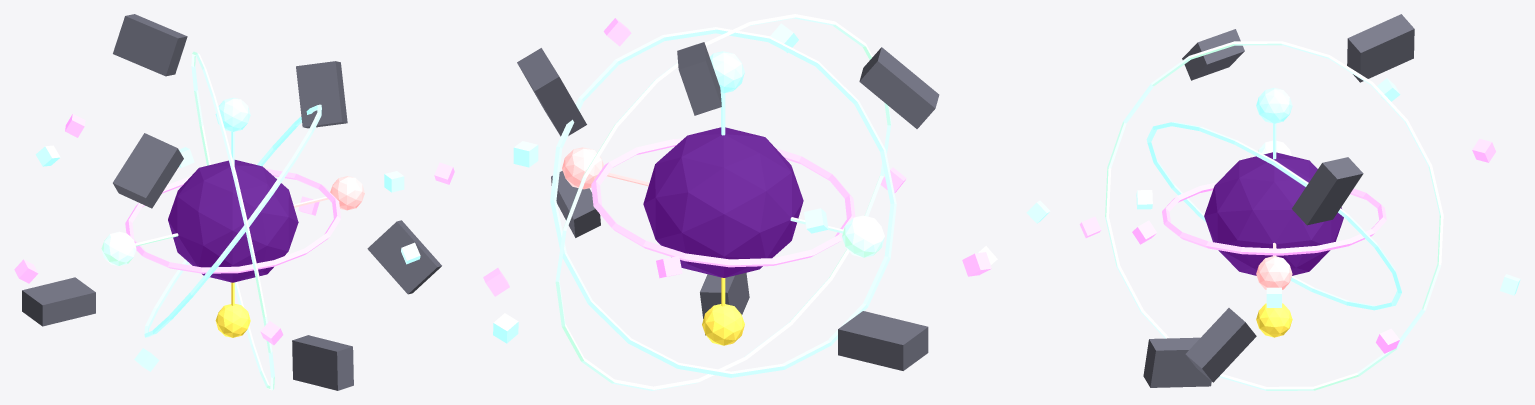
File: fragmented_core.glb
3 views of the same model, side by side, from view 1: azimuth 30°, elevation 25°; view 2: azimuth 150°, elevation 25°; view 3: azimuth 270°, elevation 25° (orthographic). The views are drawn at different scales.
Parts seen in each view (by area): view 1: fragmented_core_black_polyhedron, glitch_architecture_shard_2, glitch_architecture_shard_5, glitch_architecture_shard_6, glitch_architecture_shard_3, glitch_architecture_shard_1, glitch_architecture_shard_4, broken_logic_ring_gamma, broken_logic_ring_beta, broken_logic_ring_alpha, logic_node_one_rhythm_target, logic_node_four_rhythm_target (+3 smaller); view 2: fragmented_core_black_polyhedron, broken_logic_ring_beta, broken_logic_ring_gamma, glitch_architecture_shard_1, broken_logic_ring_alpha, glitch_architecture_shard_2, glitch_architecture_shard_3, glitch_architecture_shard_5, glitch_architecture_shard_4, glitch_architecture_shard_6, logic_node_one_rhythm_target, logic_node_four_rhythm_target (+9 smaller); view 3: fragmented_core_black_polyhedron, broken_logic_ring_gamma, glitch_architecture_shard_5, glitch_architecture_shard_3, broken_logic_ring_beta, glitch_architecture_shard_4, glitch_architecture_shard_6, broken_logic_ring_alpha, glitch_architecture_shard_2, logic_node_two_rhythm_target, logic_node_three_rhythm_target, logic_node_four_rhythm_target.
Part boxes in pixels (<box>): fragmented_core_black_polyhedron: <box>168,160,298,282</box>; glitch_architecture_shard_2: <box>113,133,183,208</box>; glitch_architecture_shard_5: <box>113,14,187,76</box>; glitch_architecture_shard_6: <box>292,335,353,390</box>; glitch_architecture_shard_3: <box>296,61,347,128</box>; glitch_architecture_shard_1: <box>22,277,95,326</box>; glitch_architecture_shard_4: <box>367,220,441,294</box>; broken_logic_ring_gamma: <box>191,51,274,390</box>; broken_logic_ring_beta: <box>144,104,321,337</box>; broken_logic_ring_alpha: <box>125,168,340,273</box>; logic_node_one_rhythm_target: <box>101,231,136,266</box>; logic_node_four_rhythm_target: <box>215,304,250,337</box>; fragmented_core_black_polyhedron: <box>643,127,803,277</box>; broken_logic_ring_beta: <box>550,27,896,377</box>; broken_logic_ring_gamma: <box>555,14,891,390</box>; glitch_architecture_shard_1: <box>838,311,928,370</box>; broken_logic_ring_alpha: <box>591,138,855,267</box>; glitch_architecture_shard_2: <box>859,47,939,128</box>; glitch_architecture_shard_3: <box>517,48,586,136</box>; glitch_architecture_shard_5: <box>677,42,721,115</box>; glitch_architecture_shard_4: <box>551,171,600,237</box>; glitch_architecture_shard_6: <box>700,272,749,335</box>; logic_node_one_rhythm_target: <box>842,215,884,257</box>; logic_node_four_rhythm_target: <box>702,304,744,345</box>; fragmented_core_black_polyhedron: <box>1204,152,1343,275</box>; broken_logic_ring_gamma: <box>1105,41,1443,390</box>; glitch_architecture_shard_5: <box>1347,14,1414,82</box>; glitch_architecture_shard_3: <box>1292,157,1363,225</box>; broken_logic_ring_beta: <box>1146,122,1401,310</box>; glitch_architecture_shard_4: <box>1185,308,1256,382</box>; glitch_architecture_shard_6: <box>1143,337,1211,387</box>; broken_logic_ring_alpha: <box>1162,182,1386,255</box>; glitch_architecture_shard_2: <box>1182,29,1244,80</box>; logic_node_two_rhythm_target: <box>1256,87,1292,123</box>; logic_node_three_rhythm_target: <box>1256,256,1292,289</box>; logic_node_four_rhythm_target: <box>1256,303,1292,337</box>.
Size of the model in its own units: 3.08 by 2.47 by 3.25.
